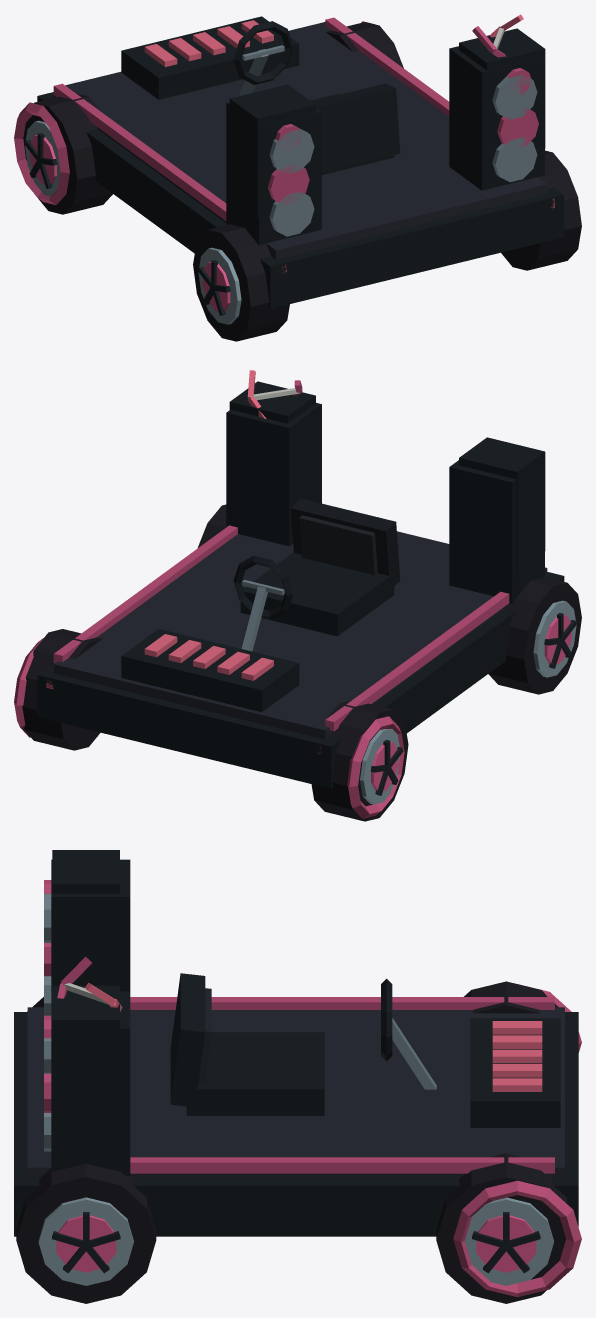
Rendered from kart.glb.
3 views of the same model, one above another, from view 1: azimuth 30°, elevation 25°; view 2: azimuth 150°, elevation 25°; view 3: azimuth 270°, elevation 25° (orthographic). The views are drawn at different scales.
Parts seen in each view (by area): view 1: identity-stage-stage-platform-and-pa-towers, identity-stage-motif-speakers, identity-stage-driver-cockpit, wheel-rear-left, wheel-front-left, wheel-rear-right, identity-stage-motif-neon, wheel-front-right, identity-stage-motif-dna; view 2: identity-stage-stage-platform-and-pa-towers, identity-stage-driver-cockpit, wheel-rear-left, identity-stage-motif-speakers, wheel-front-left, wheel-front-right, identity-stage-motif-neon, identity-stage-motif-dna; view 3: identity-stage-stage-platform-and-pa-towers, identity-stage-driver-cockpit, wheel-rear-right, identity-stage-motif-speakers, wheel-front-right, identity-stage-motif-neon, wheel-front-left, identity-stage-motif-dna.
Part boxes in pixels (x1,y1,x2,y2): identity-stage-stage-platform-and-pa-towers: [37, 16, 564, 308]; identity-stage-motif-speakers: [229, 28, 545, 218]; identity-stage-driver-cockpit: [233, 21, 400, 174]; wheel-rear-left: [193, 224, 289, 341]; wheel-front-left: [23, 93, 112, 214]; wheel-rear-right: [501, 150, 581, 270]; identity-stage-motif-neon: [14, 21, 554, 273]; wheel-front-right: [326, 22, 403, 68]; identity-stage-motif-dna: [472, 14, 523, 57]; identity-stage-stage-platform-and-pa-towers: [37, 403, 564, 788]; identity-stage-driver-cockpit: [233, 498, 400, 651]; wheel-rear-left: [488, 577, 581, 694]; identity-stage-motif-speakers: [229, 381, 545, 571]; wheel-front-left: [311, 700, 408, 821]; wheel-front-right: [22, 629, 102, 750]; identity-stage-motif-neon: [14, 638, 404, 818]; identity-stage-motif-dna: [247, 370, 302, 418]; identity-stage-stage-platform-and-pa-towers: [14, 859, 578, 1236]; identity-stage-driver-cockpit: [170, 973, 436, 1115]; wheel-rear-right: [16, 1163, 156, 1303]; identity-stage-motif-speakers: [44, 850, 119, 1140]; wheel-front-right: [436, 1153, 569, 1303]; identity-stage-motif-neon: [453, 984, 581, 1297]; wheel-front-left: [464, 981, 558, 1013]; identity-stage-motif-dna: [57, 956, 122, 1011].
Size of the model in its own units: 2.16 by 1.47 by 2.51.
